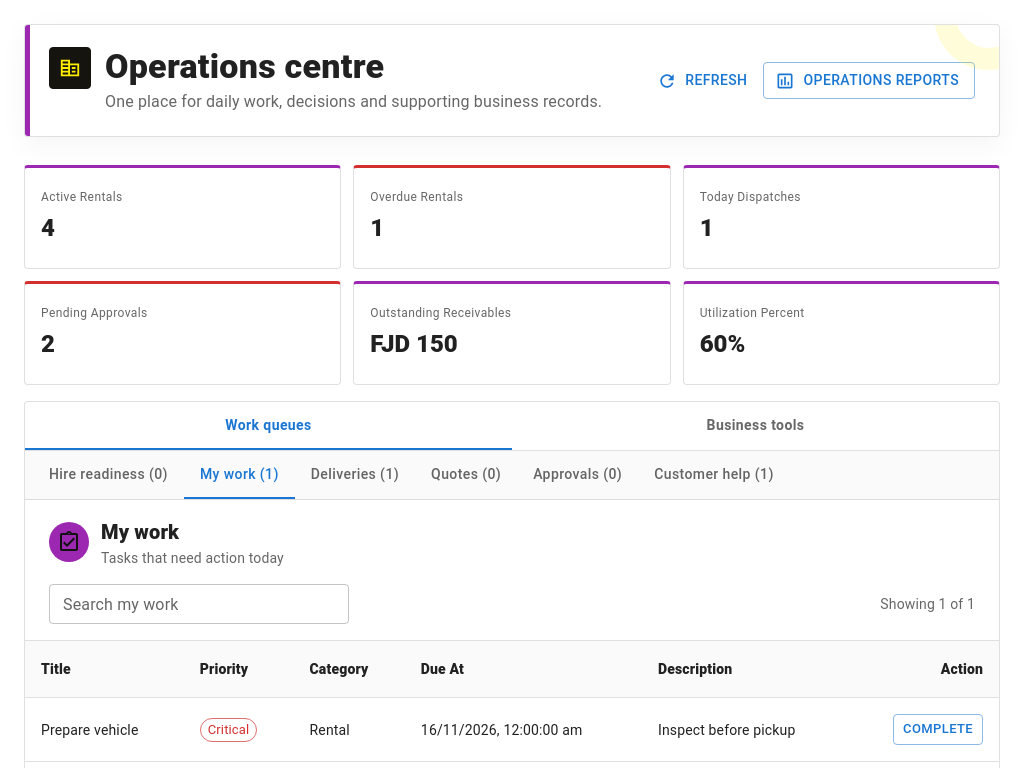
shows quotation, approval and readiness panels
Expected: the text "Prepare vehicle" is shown, [25, 698, 184, 761]
Click the tab "Quotes (0)" at (466, 475), box [415, 451, 517, 499]
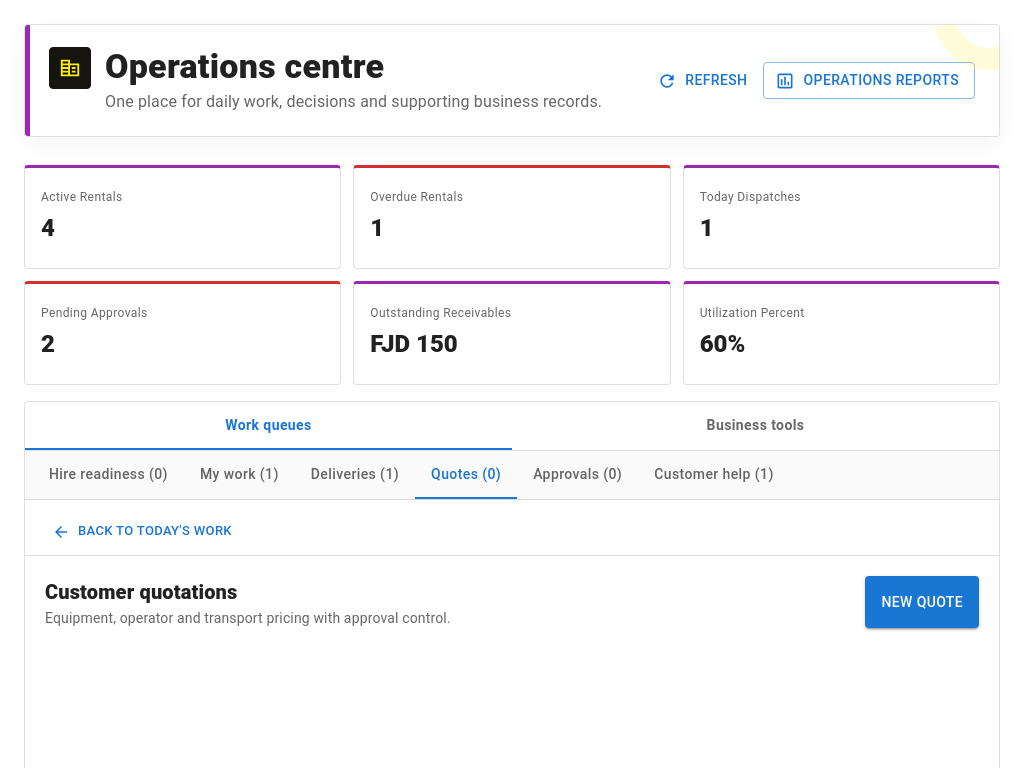
Result: the heading "Customer quotations" is shown at [45, 580, 238, 604]
Click the tab "Approvals (0)" at (578, 475), box [517, 451, 638, 499]
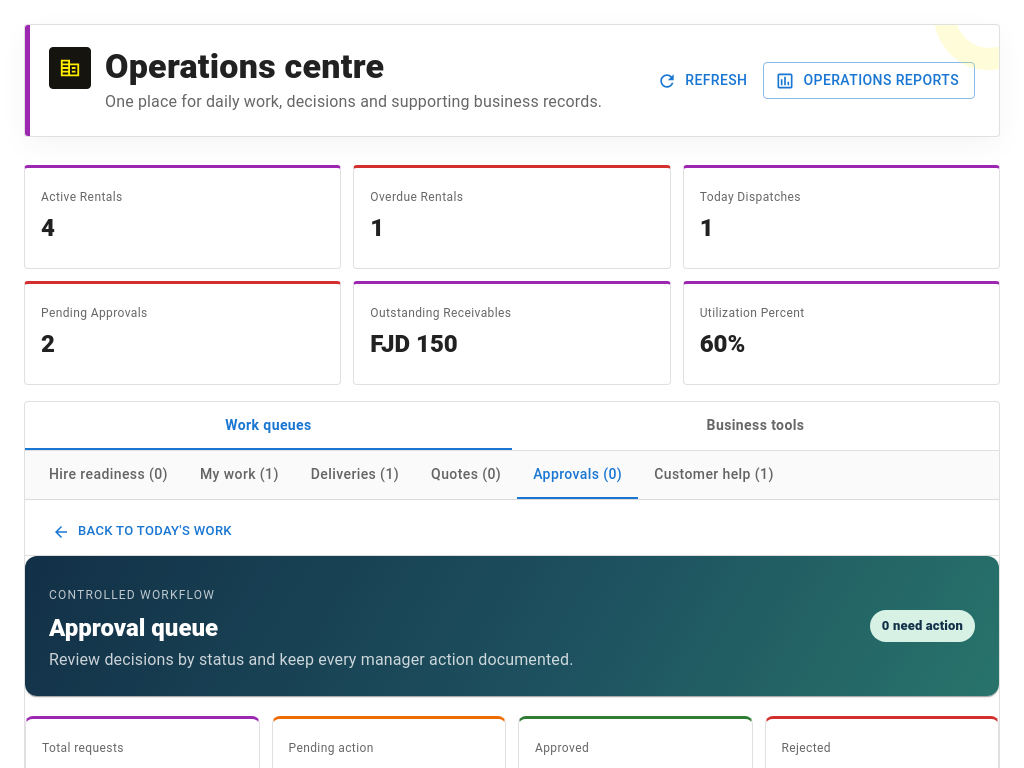
Result: the heading "Approval queue" is shown at [49, 614, 218, 642]
Click the tab "Hire readiness (0)" at (108, 475), box [33, 451, 184, 499]
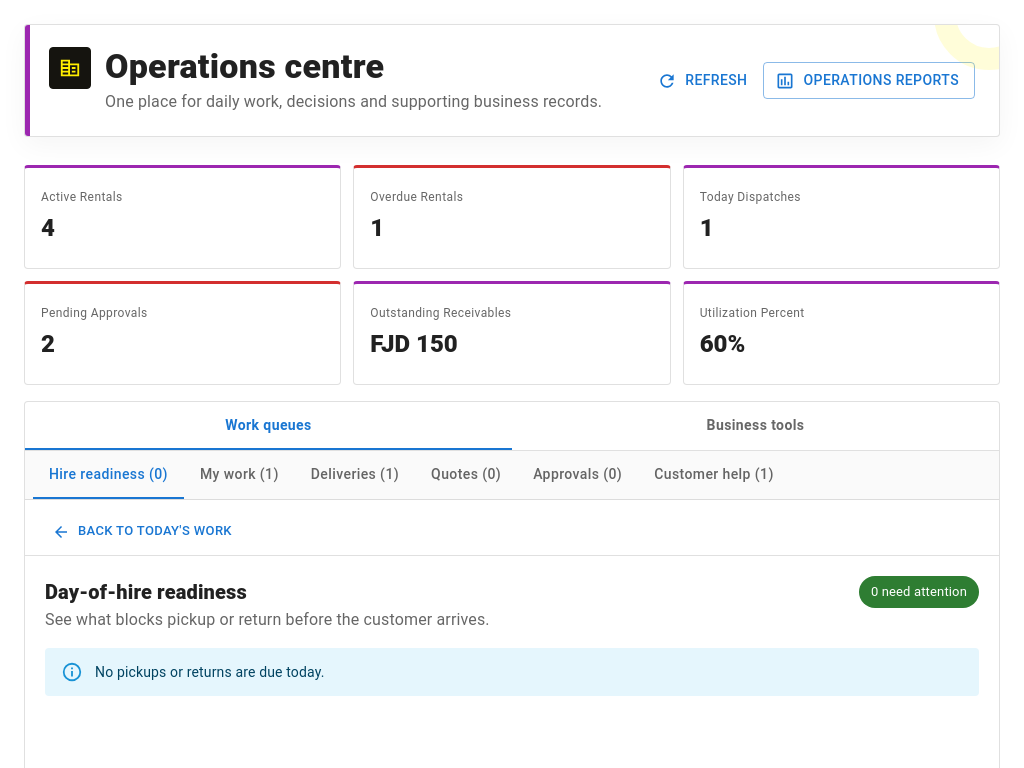
Result: the text "No pickups or returns are due today." is shown at [95, 664, 325, 680]
